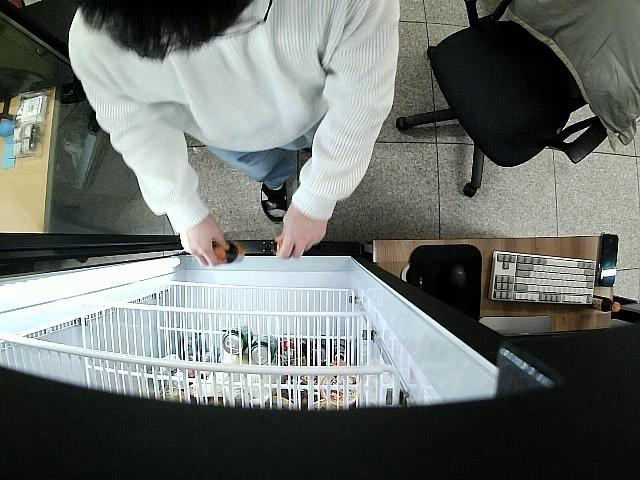17_vita500: (208, 241, 248, 267)
